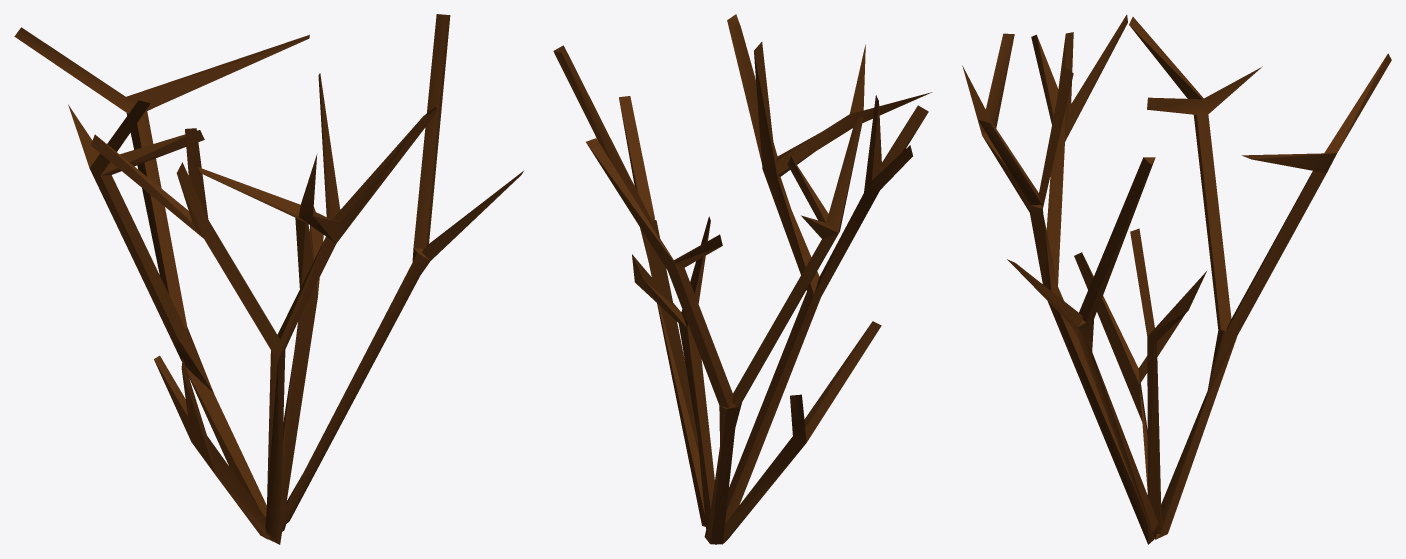
The model's file is sharp vines.glb.
The picture shows the model from 3 angles, left to right: view 1: azimuth 30°, elevation 25°; view 2: azimuth 150°, elevation 25°; view 3: azimuth 270°, elevation 25°; orthographic projection. The views are drawn at different scales.
Parts seen in each view (by area): view 1: Cube_0; view 2: Cube_0; view 3: Cube_0.
Boxes of the visible parts, left/top/right/bottom form: Cube_0: left=14, top=14, right=524, bottom=544; Cube_0: left=553, top=14, right=932, bottom=544; Cube_0: left=962, top=14, right=1391, bottom=544.
Bounding box in the file's own units: 0.8215 × 1.06 × 0.8662.
